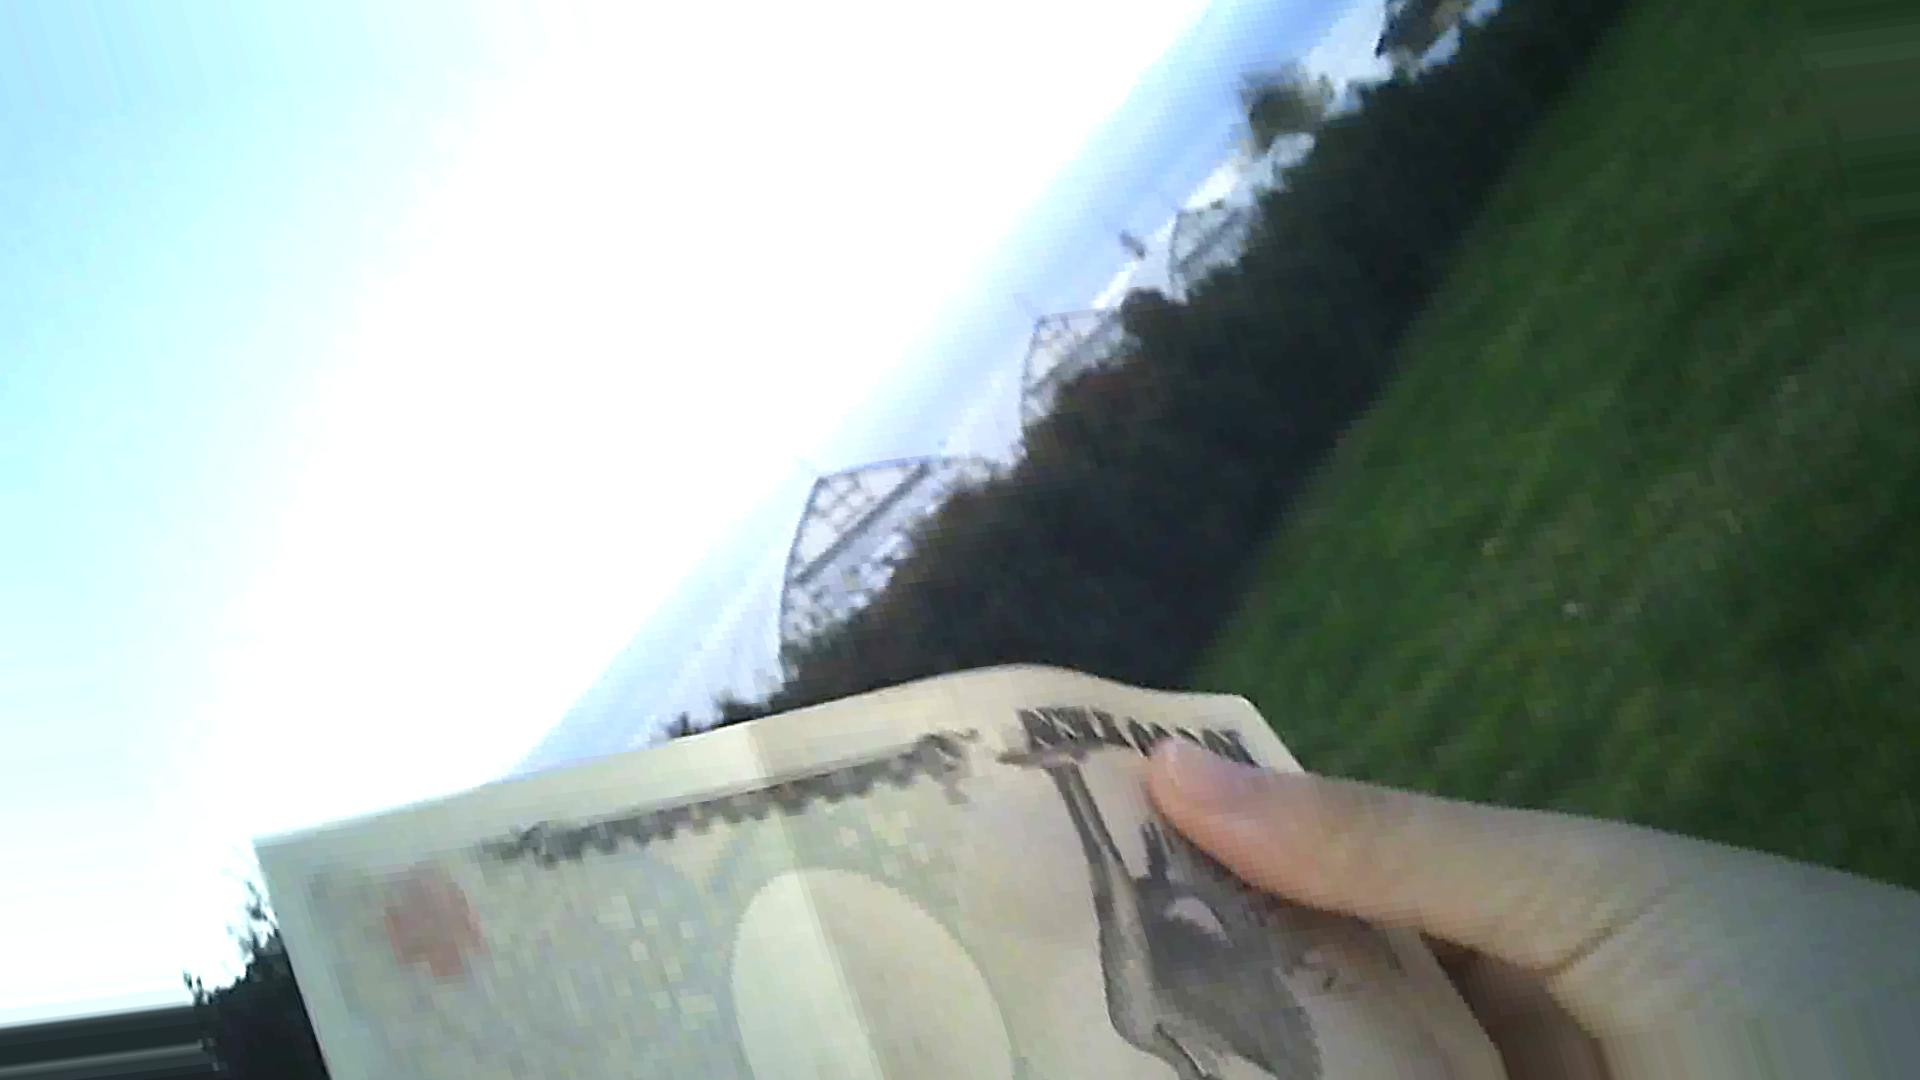10,000 Yen: (196, 588, 1476, 1079)
